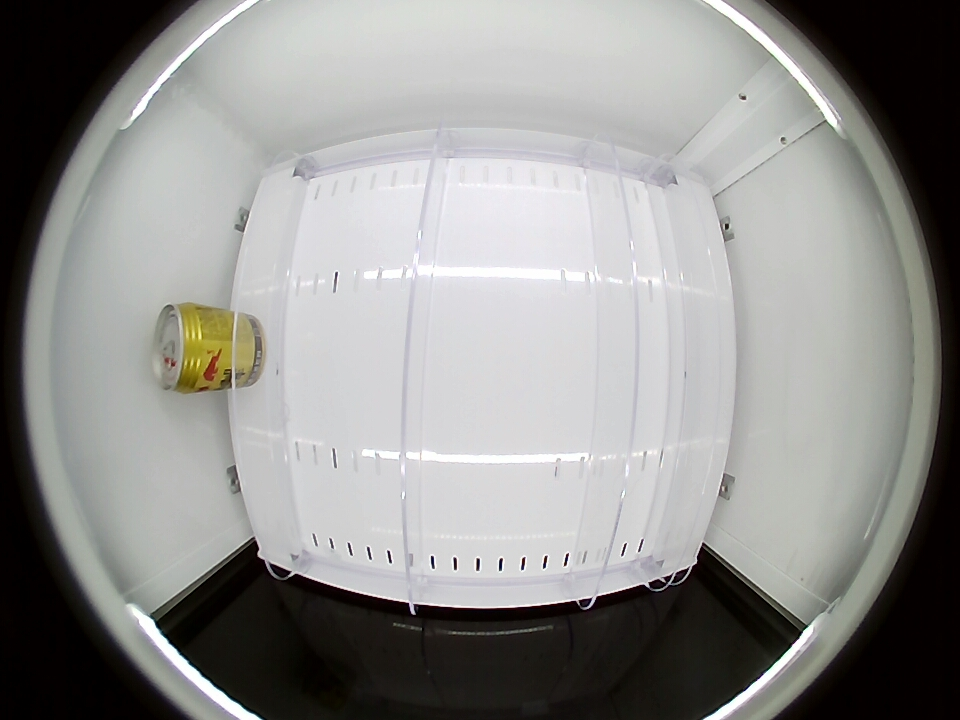hongniu2: (154, 302, 217, 394)
